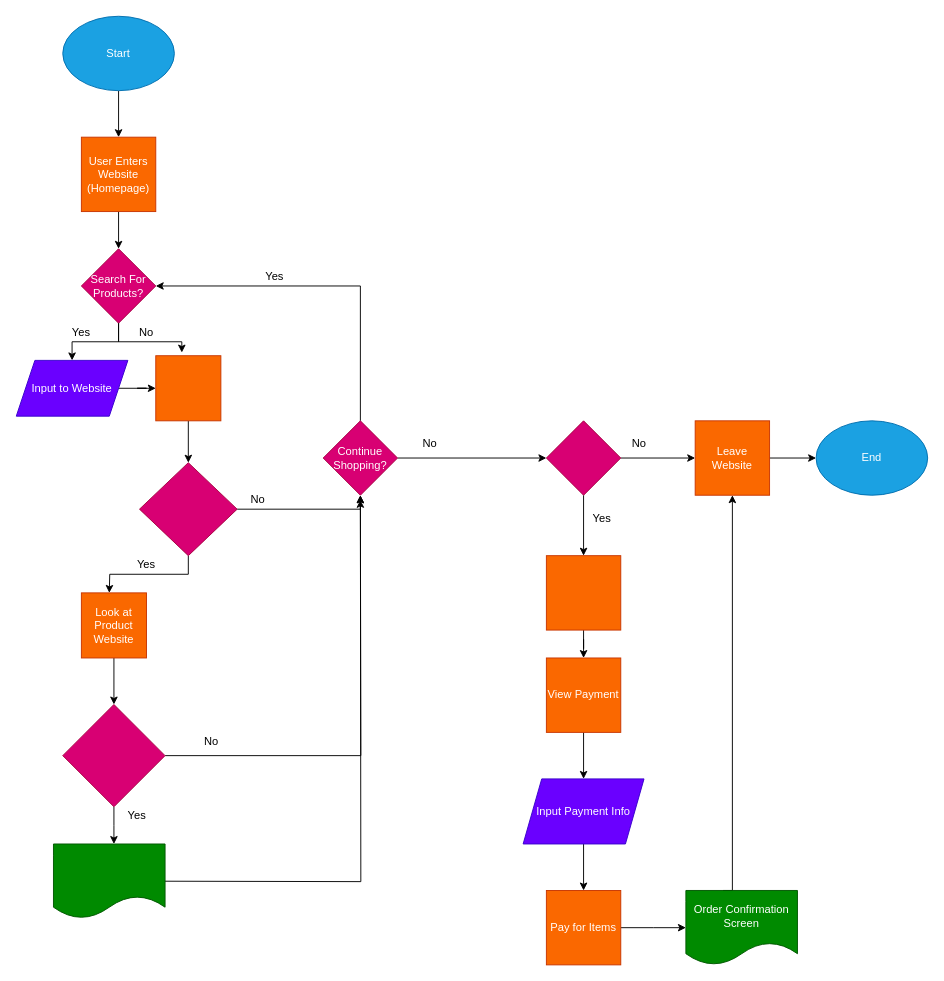
Some shapes in this 944 by 981 pixel diagram are drawn without their labels. Each missing label, with the box of its shape:
Add product to shopping cart?: (62, 704, 165, 807)
Checkout?: (545, 420, 621, 495)
Item Added to cart Confirmation: (53, 843, 165, 918)
Look At Products: (155, 355, 221, 421)
Look at Specific Product?: (139, 462, 237, 556)
View Cart: (545, 555, 621, 630)
